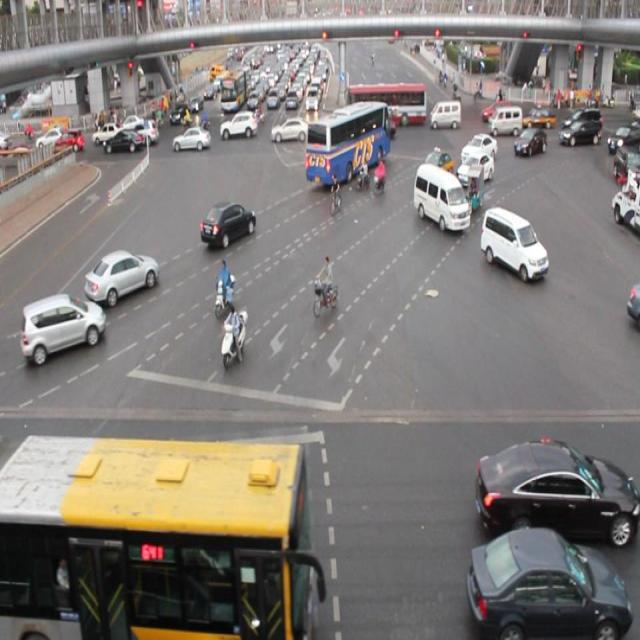car: (473, 436, 640, 544), (467, 531, 631, 640), (21, 292, 106, 365), (85, 248, 160, 304), (200, 200, 256, 247), (454, 150, 492, 182), (558, 118, 599, 147), (417, 146, 450, 182), (621, 271, 640, 330), (512, 124, 547, 156), (460, 130, 496, 159), (104, 130, 146, 154), (271, 116, 306, 144)
truck: (481, 202, 548, 284), (412, 162, 469, 234)
van: (1, 429, 316, 640), (305, 98, 389, 190)
